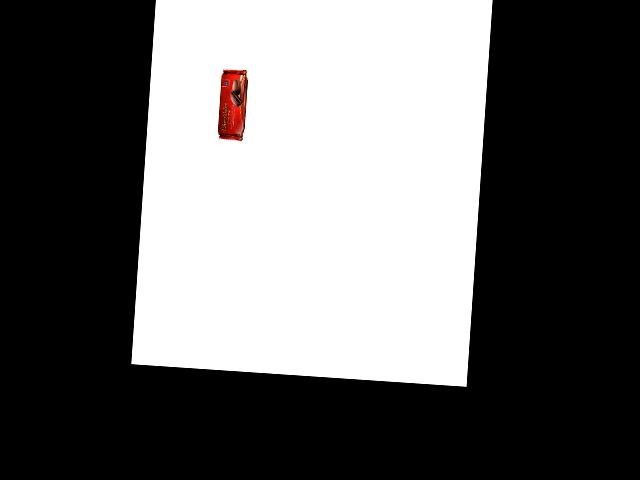chocolate: (216, 67, 255, 142)
